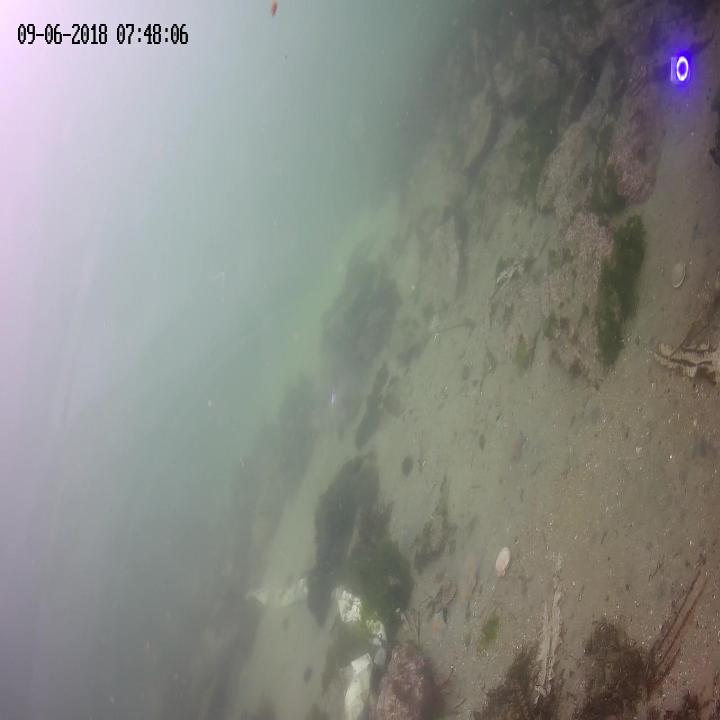scallop: (493, 545, 511, 577), (670, 258, 686, 288)
starfish: (462, 549, 483, 578), (458, 578, 474, 614), (510, 430, 527, 463), (433, 607, 446, 641)
